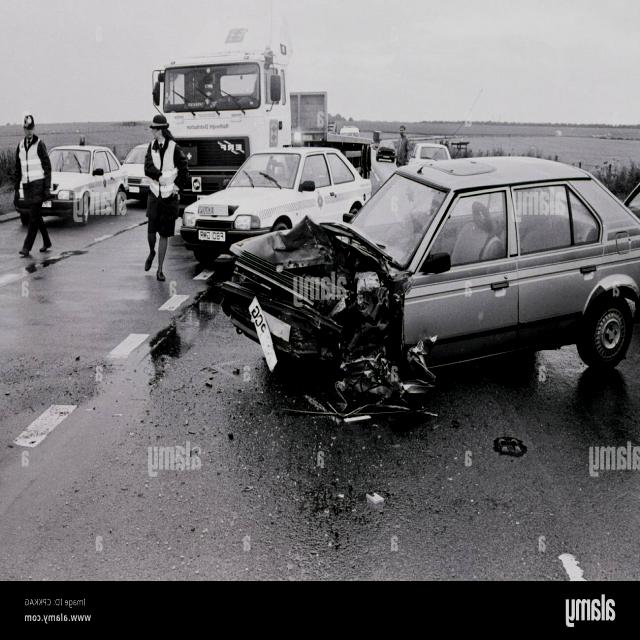accident: (218, 154, 640, 423)
non-accident: (15, 47, 375, 267)
